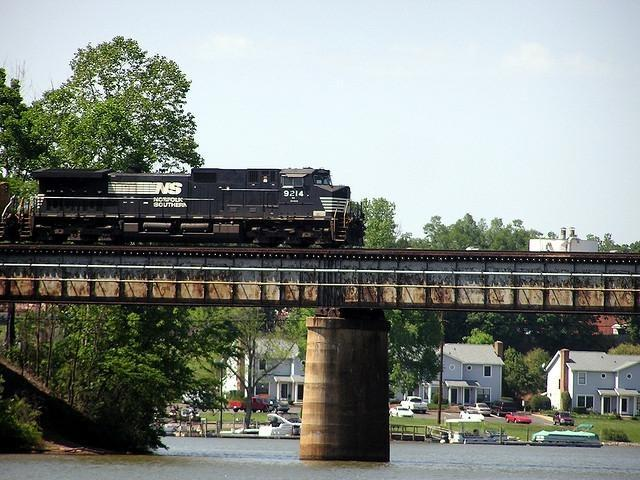car: (399, 395, 428, 414), (488, 400, 516, 417), (388, 405, 414, 418), (268, 399, 290, 414), (505, 412, 532, 424), (552, 412, 575, 426), (459, 409, 484, 421), (468, 403, 491, 416), (182, 394, 190, 404)
truck: (230, 396, 271, 414)
